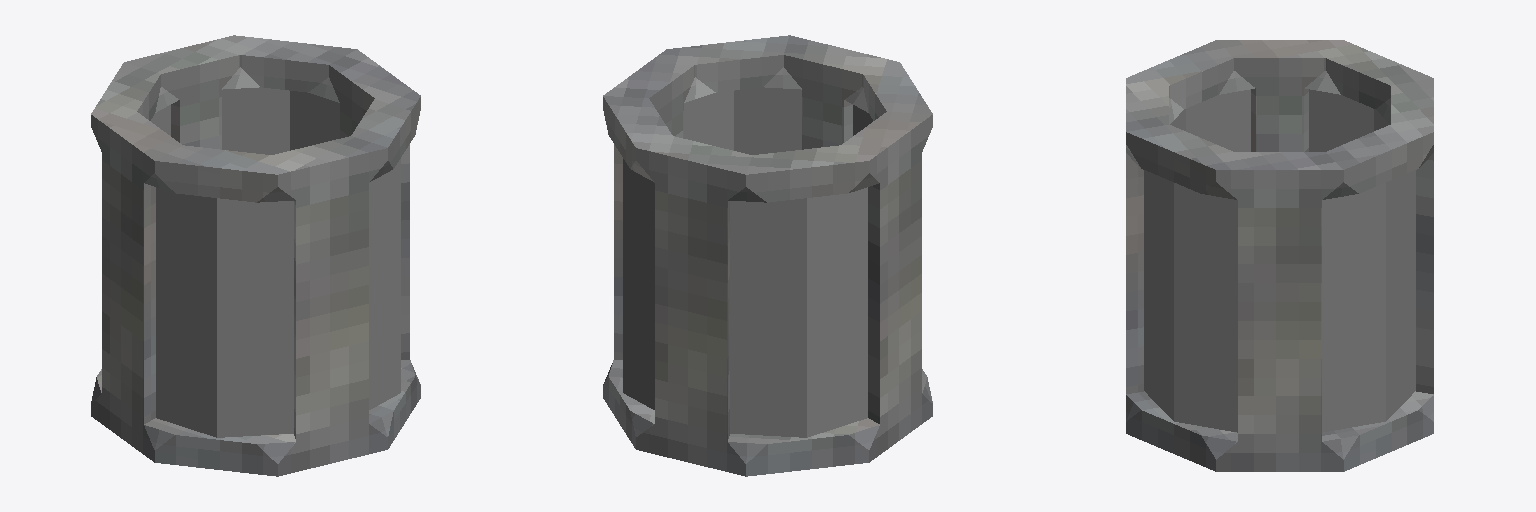
3 views of the same model, side by side, from view 1: azimuth 30°, elevation 25°; view 2: azimuth 150°, elevation 25°; view 3: azimuth 270°, elevation 25° (orthographic).
Parts seen in each view (by area): view 1: Tube003, Tube001; view 2: Tube003, Tube001; view 3: Tube003, Tube001.
Boxes of the visible parts, <box> form: Tube003: <box>91,35,420,476</box>; Tube001: <box>151,87,400,437</box>; Tube003: <box>603,35,932,476</box>; Tube001: <box>623,87,872,437</box>; Tube003: <box>1126,40,1433,471</box>; Tube001: <box>1144,89,1415,432</box>.
Size of the model in its own units: 0.9238 by 1 by 0.9238.
Materials: 2 (1 with a texture image).